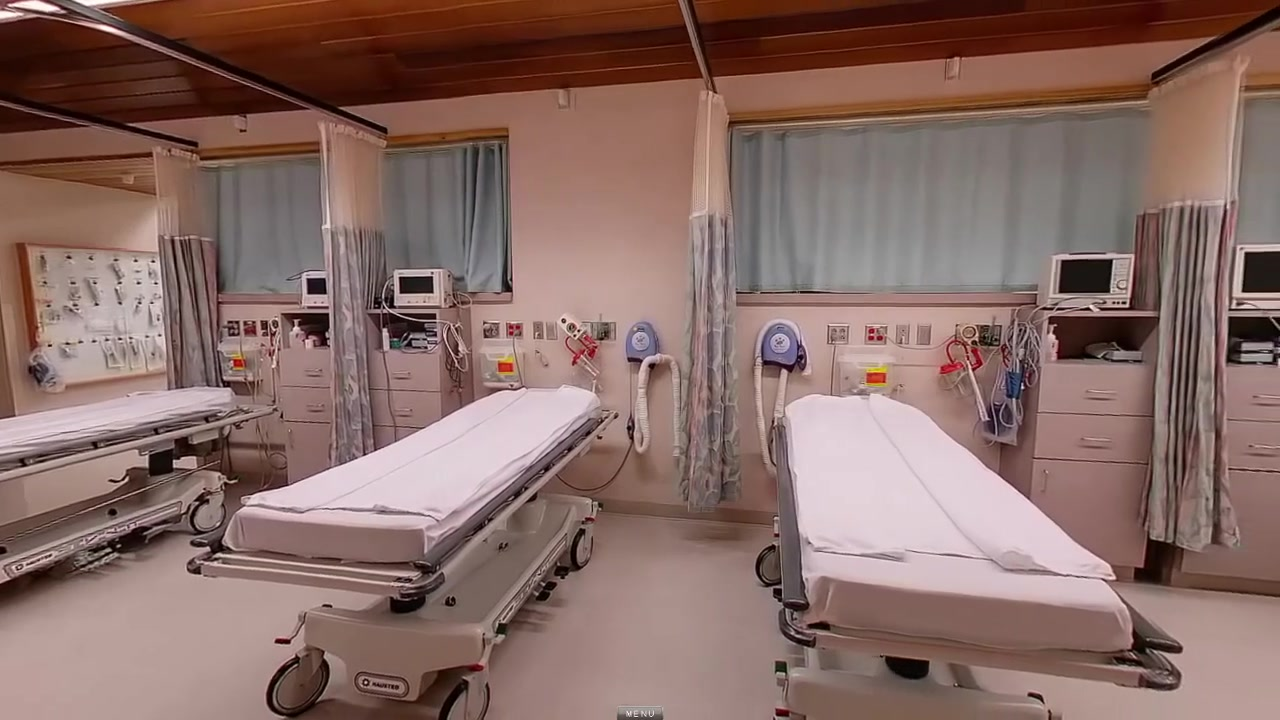bedside_monitor: (1044, 251, 1135, 309), (1230, 245, 1280, 305), (392, 269, 454, 309), (300, 270, 333, 308)
curtain: (1146, 50, 1252, 549), (679, 86, 742, 507), (318, 118, 386, 467), (156, 145, 222, 385)
dispenser: (289, 319, 306, 349)
handle: (1250, 443, 1280, 456), (1087, 389, 1118, 400), (1081, 436, 1112, 447), (1253, 394, 1280, 406), (307, 402, 325, 413), (306, 368, 324, 377), (1041, 469, 1048, 492), (287, 427, 294, 448), (392, 372, 410, 379), (396, 408, 412, 415)
hospital_bed: (189, 383, 620, 720), (756, 396, 1182, 720), (1, 387, 272, 589)
medical_drawer: (1002, 308, 1157, 585), (1180, 311, 1280, 597), (365, 306, 474, 451), (281, 309, 329, 485)
